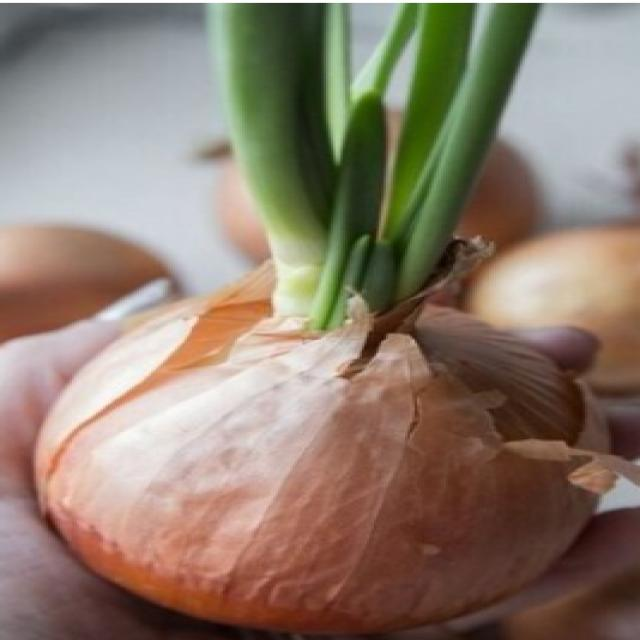sprouting: (67, 6, 636, 576)
